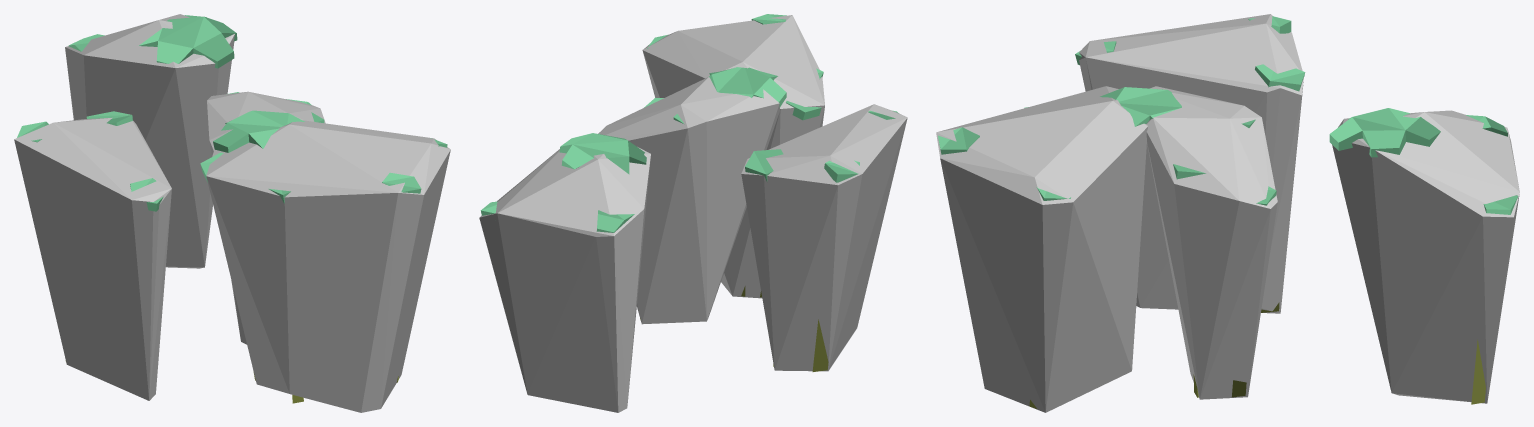
File: SM_Env_Flowers_01.fbx
The picture shows the model from 3 angles, left to right: view 1: azimuth 30°, elevation 25°; view 2: azimuth 150°, elevation 25°; view 3: azimuth 270°, elevation 25°; orthographic projection. The views are drawn at different scales.
Parts seen in each view (by area): view 1: SM_Env_Flowers_01_ConvexHulls, SM_Env_Flowers_01; view 2: SM_Env_Flowers_01_ConvexHulls, SM_Env_Flowers_01; view 3: SM_Env_Flowers_01_ConvexHulls, SM_Env_Flowers_01.
Boxes of the visible parts, x1,y1,x2,y2 form: SM_Env_Flowers_01_ConvexHulls: (14,14,450,412); SM_Env_Flowers_01: (17,15,447,403); SM_Env_Flowers_01_ConvexHulls: (479,15,907,412); SM_Env_Flowers_01: (480,14,898,371); SM_Env_Flowers_01_ConvexHulls: (936,14,1519,412); SM_Env_Flowers_01: (938,16,1518,408).
Size of the model in its own units: 106 by 149 by 76.45.
Materials: 2 (1 with a texture image).
